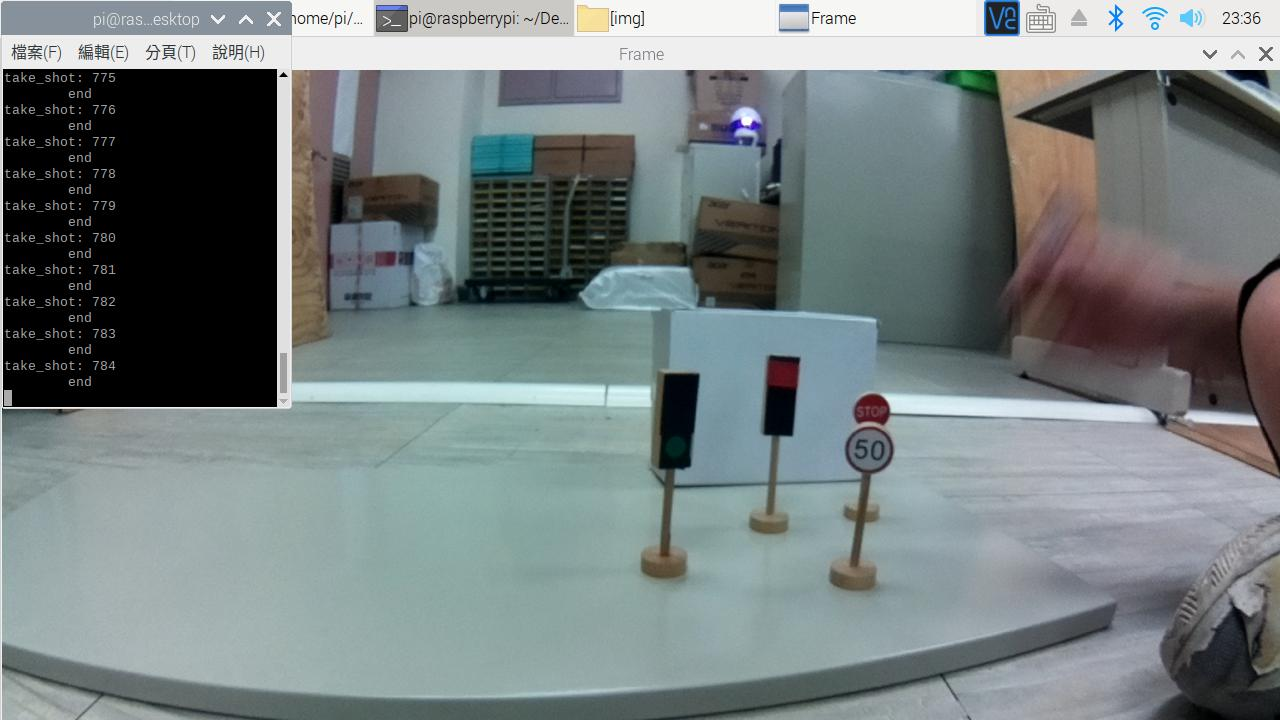Green: (639, 372, 708, 477)
Red: (757, 340, 805, 443)
Speed50: (840, 422, 903, 474)
